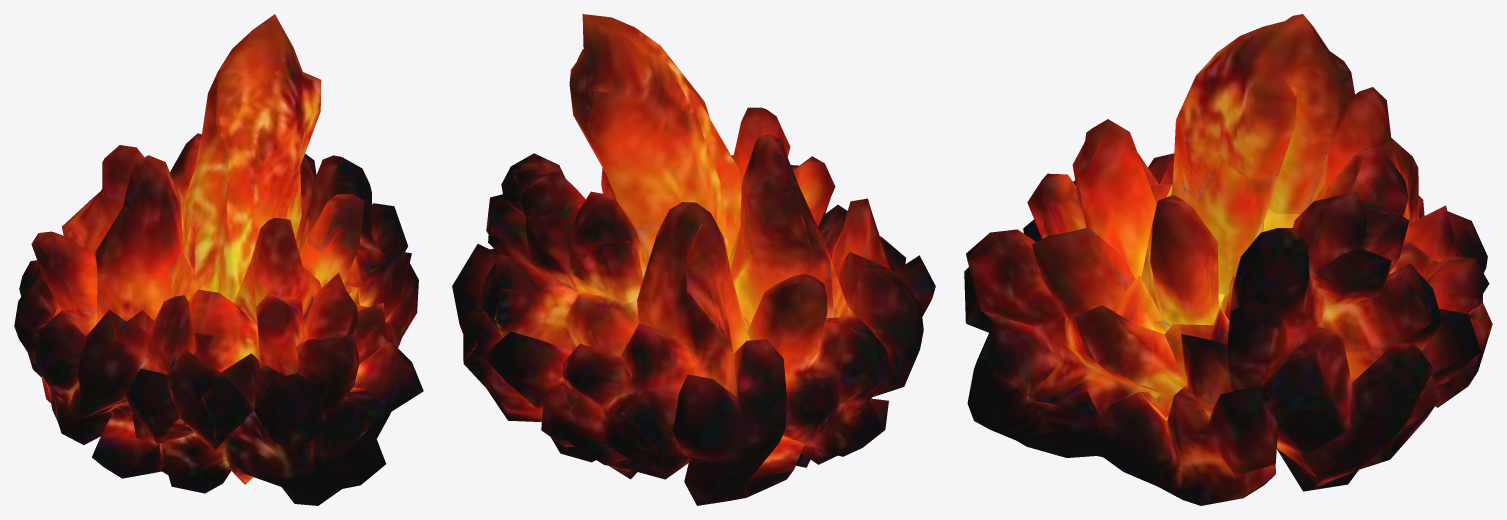
Rendered from crystal-creative_ai_03.glb.
The picture shows the model from 3 angles, left to right: view 1: azimuth 30°, elevation 25°; view 2: azimuth 150°, elevation 25°; view 3: azimuth 270°, elevation 25°; orthographic projection. The views are drawn at different scales.
Parts seen in each view (by area): view 1: mesh_node.001; view 2: mesh_node.001; view 3: mesh_node.001.
Boxes of the visible parts, x1,y1,x2,y2 form: mesh_node.001: (14,14,423,505); mesh_node.001: (452,14,935,505); mesh_node.001: (964,14,1492,505).
Bounding box in the file's own units: 0.3154 × 0.3242 × 0.3193.
1 material, 1 textured.
